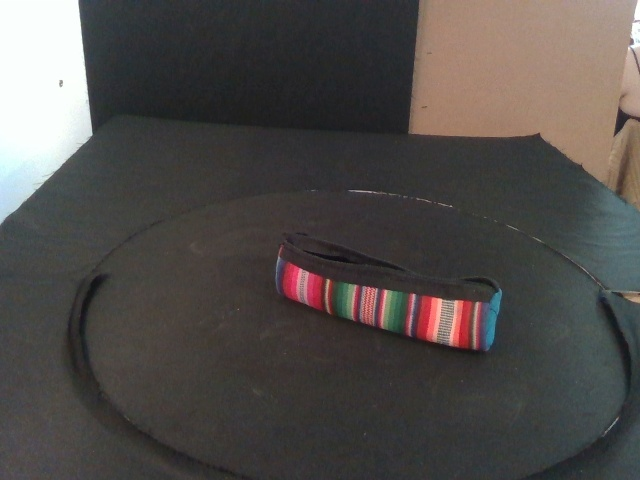pencil_case: (273, 232, 503, 350)
